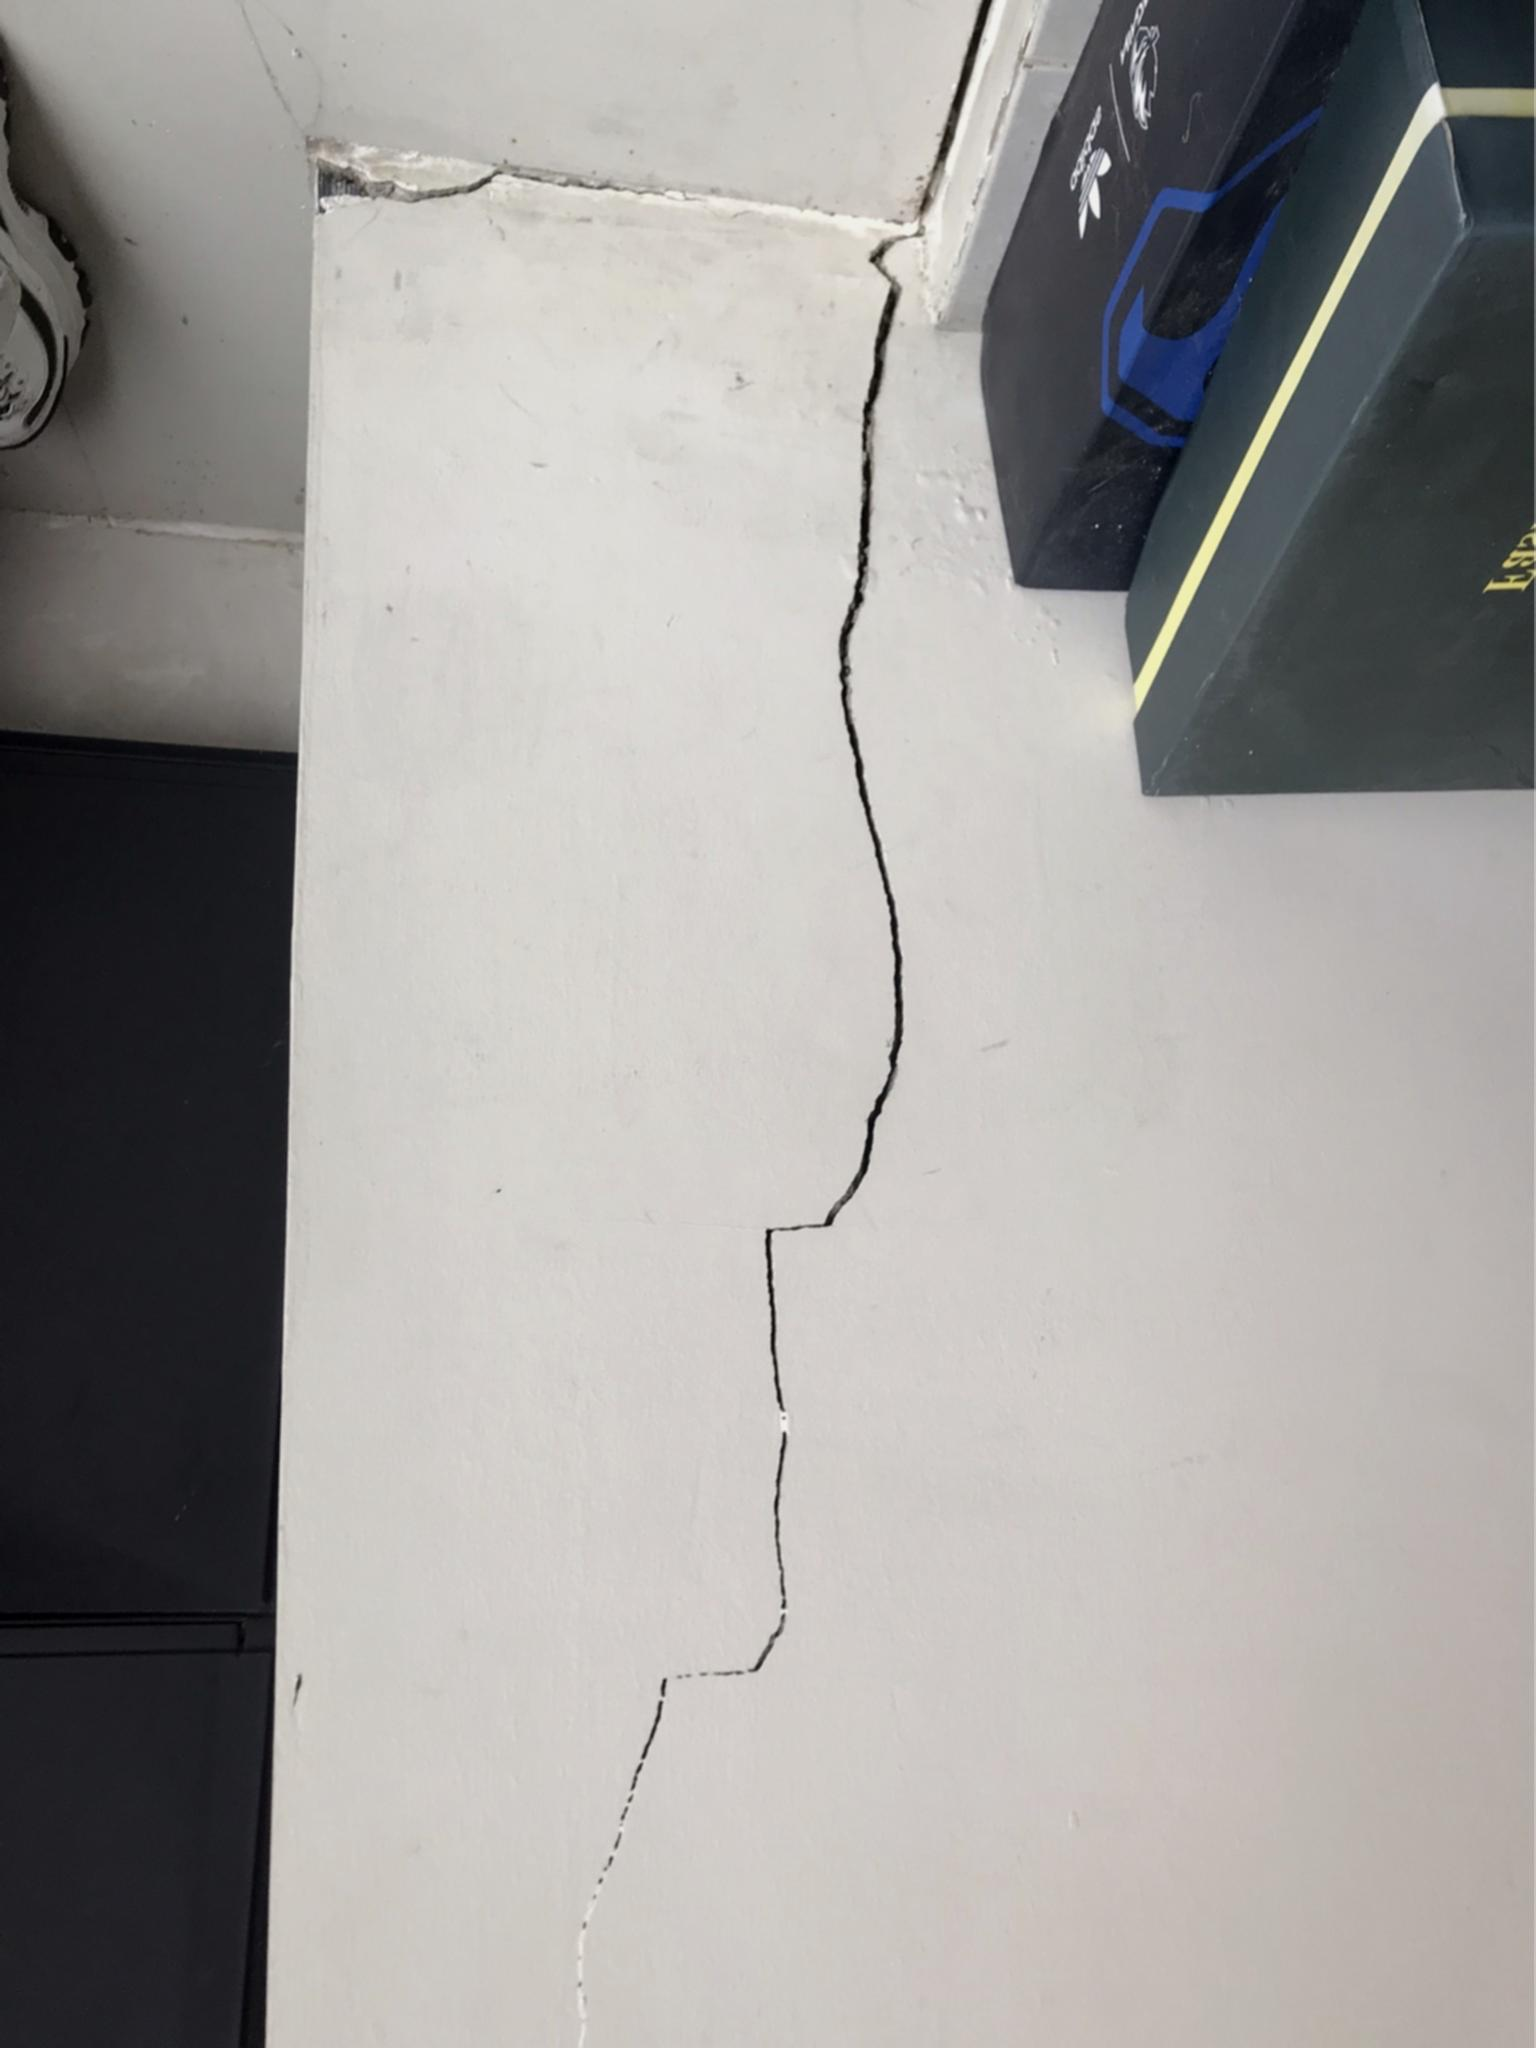High: (310, 6, 1004, 2048)
